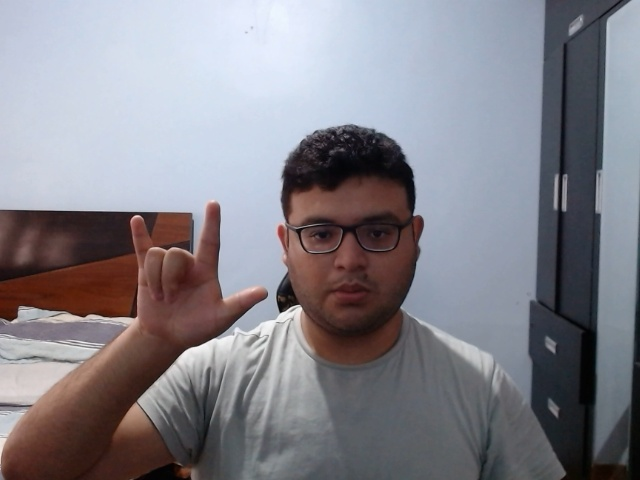I love you: (122, 198, 271, 353)
